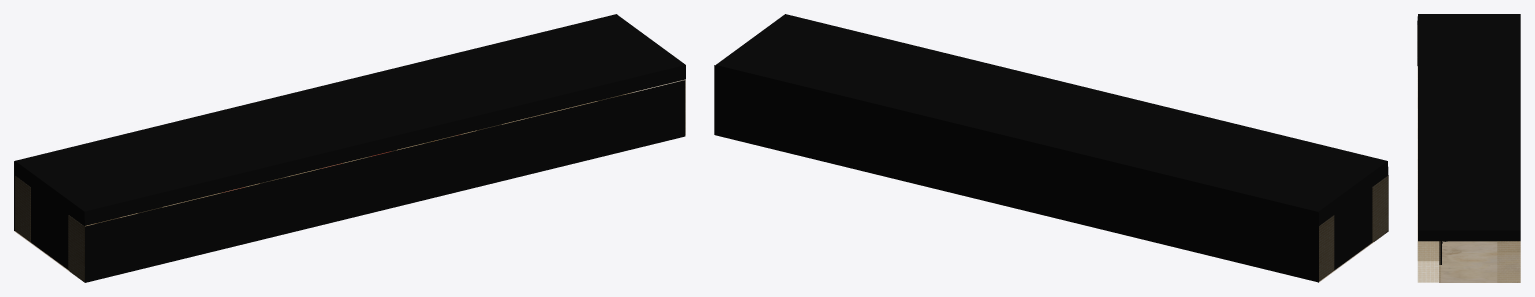
File: room_1.gltf
The picture shows the model from 3 angles, left to right: view 1: azimuth 30°, elevation 25°; view 2: azimuth 150°, elevation 25°; view 3: azimuth 270°, elevation 25°; orthographic projection. The views are drawn at different scales.
Visible parts, largest first — view 1: Cube.013, Cube.010, Cube.006; view 2: Cube.013, Plane.010, Plane.006, Plane.009, Plane.008, Plane.007, Cube.010, Cube.006; view 3: Cube.013, Plane.001, Cube.012, Cube, Plane.002, Cube.011.
Boxes of the visible parts, x1,y1,x2,y2 form: Cube.013: (15, 14, 685, 282); Cube.010: (68, 198, 200, 281); Cube.006: (15, 176, 30, 241); Cube.013: (716, 14, 1388, 282); Plane.010: (1117, 163, 1318, 282); Plane.006: (714, 65, 815, 159); Plane.009: (1016, 139, 1117, 233); Plane.008: (916, 114, 1016, 208); Plane.007: (815, 89, 915, 183); Cube.010: (1372, 176, 1388, 242); Cube.006: (1319, 216, 1333, 280); Cube.013: (1417, 14, 1520, 241); Plane.001: (1439, 246, 1520, 282); Cube.012: (1417, 220, 1440, 282); Cube: (1497, 241, 1520, 282); Plane.002: (1442, 241, 1520, 246); Cube.011: (1417, 190, 1438, 260).
Bounding box in the file's own units: 31.23 × 3.51 × 6.29.
Materials: 19 (9 with a texture image).
